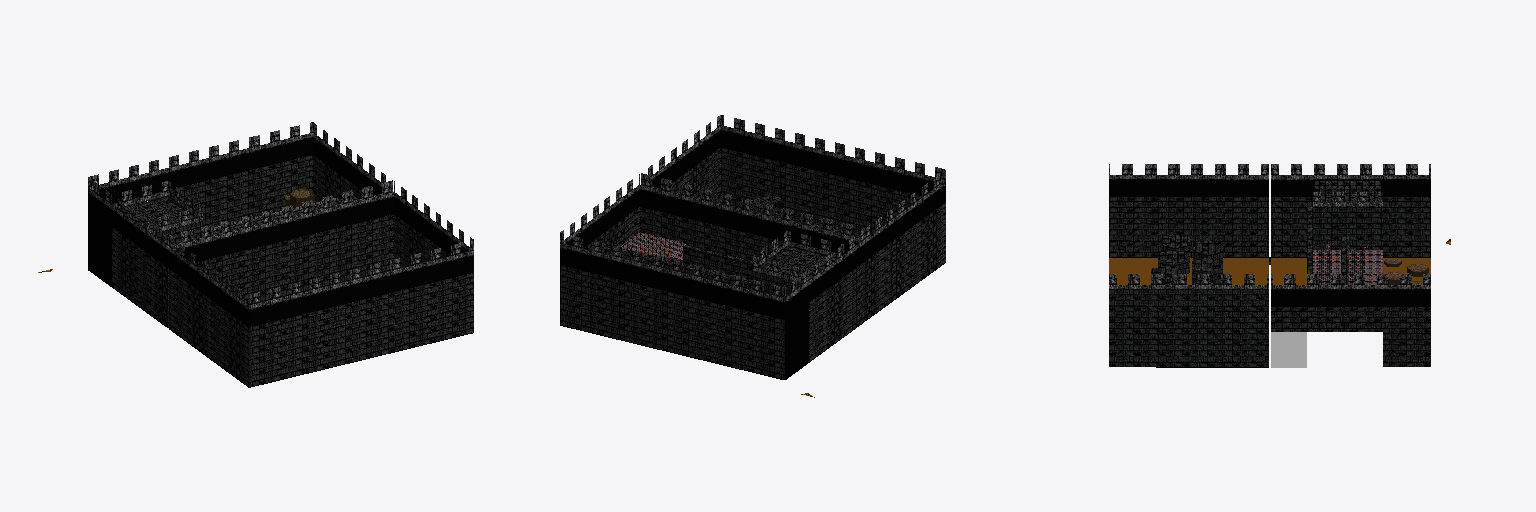
3 renders of one model, left to right at view 1: azimuth 30°, elevation 25°; view 2: azimuth 150°, elevation 25°; view 3: azimuth 270°, elevation 25°, orthographic.
Visible parts, largest first — view 1: Mesh12 Group1 Model, Mesh24 Group14 Model, Mesh25 Group26 Model; view 2: Mesh24 Group14 Model, Mesh12 Group1 Model, Mesh25 Group26 Model, Mesh22 Group24 Group14 Model; view 3: Mesh12 Group1 Model, Mesh24 Group14 Model, Mesh25 Group26 Model, Mesh1 Group2 Group1 Model, Mesh7 Group8 Group1 Model.
Boxes of the visible parts, x1=… form: Mesh12 Group1 Model: x1=169, y1=181, x2=473, y2=387; Mesh24 Group14 Model: x1=88, y1=122, x2=392, y2=327; Mesh25 Group26 Model: x1=124, y1=198, x2=194, y2=229; Mesh24 Group14 Model: x1=560, y1=174, x2=864, y2=379; Mesh12 Group1 Model: x1=641, y1=115, x2=945, y2=320; Mesh25 Group26 Model: x1=761, y1=248, x2=836, y2=279; Mesh22 Group24 Group14 Model: x1=604, y1=244, x2=752, y2=289; Mesh12 Group1 Model: x1=1109, y1=164, x2=1269, y2=367; Mesh24 Group14 Model: x1=1270, y1=164, x2=1430, y2=367; Mesh25 Group26 Model: x1=1315, y1=181, x2=1381, y2=248; Mesh1 Group2 Group1 Model: x1=1192, y1=258, x2=1220, y2=284; Mesh7 Group8 Group1 Model: x1=1193, y1=241, x2=1222, y2=273.
Bounding box in the file's own units: 4460 × 1539 × 4981.
Materials: 9 (5 with a texture image).